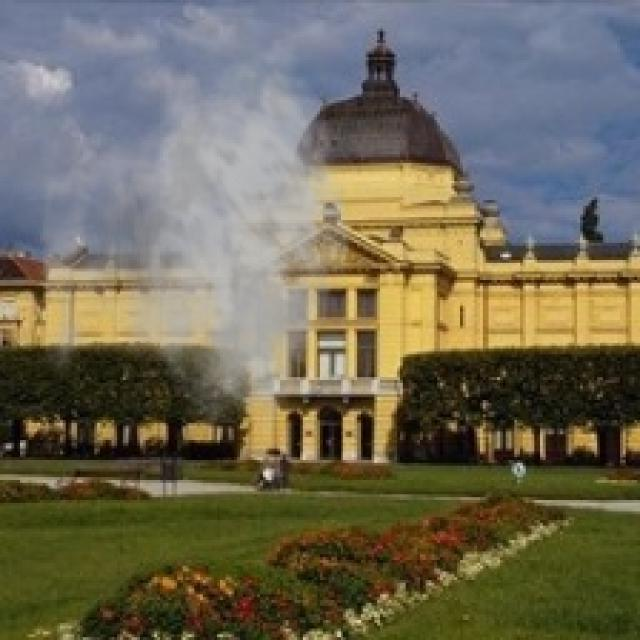smoke: (9, 40, 352, 446)
